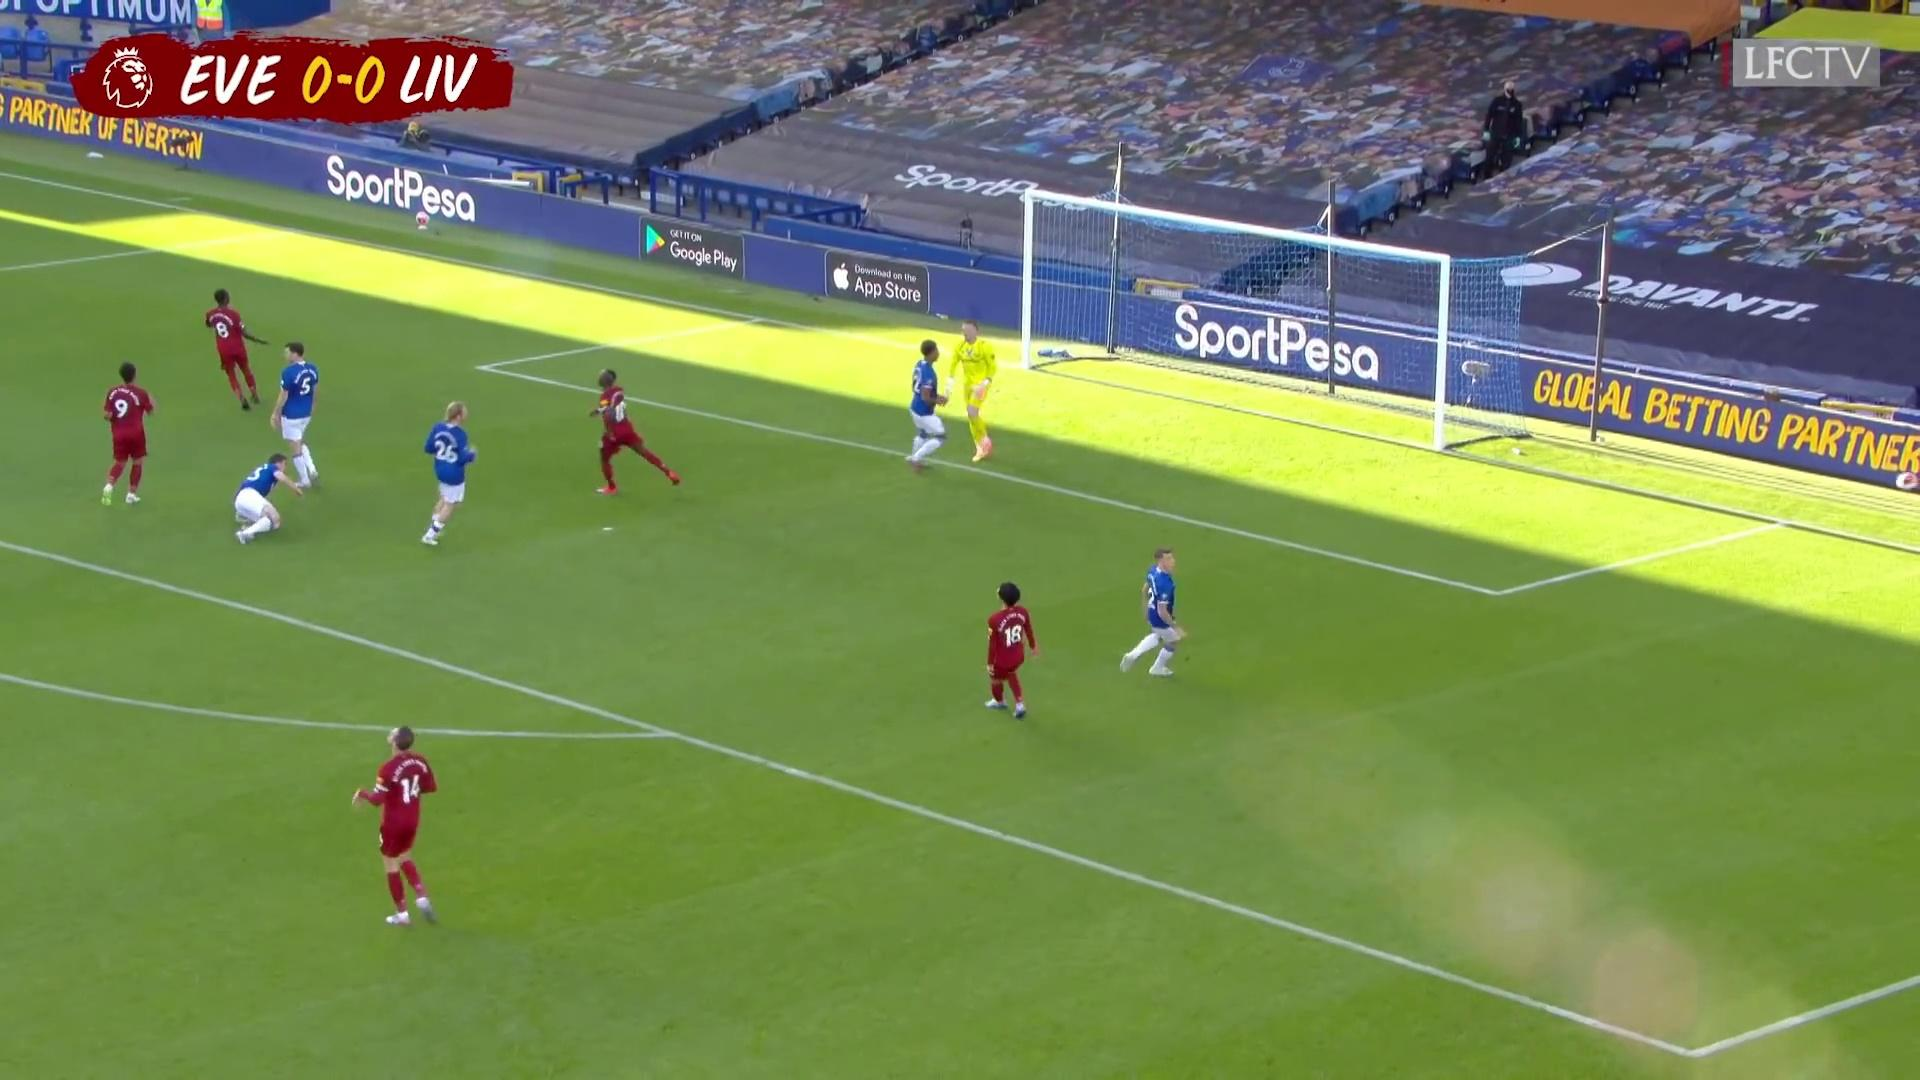goalkeeper: (941, 319, 1006, 467)
player: (349, 725, 443, 931), (581, 371, 684, 503), (1119, 548, 1194, 683), (422, 398, 489, 548), (96, 360, 163, 509), (982, 579, 1049, 726), (268, 340, 328, 492), (202, 287, 268, 416), (229, 449, 306, 545), (901, 339, 951, 476)
